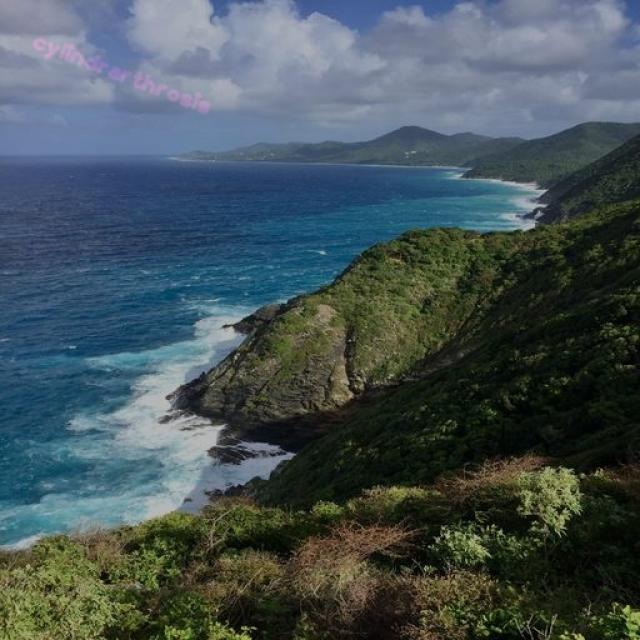watermark: (25, 31, 222, 118)
